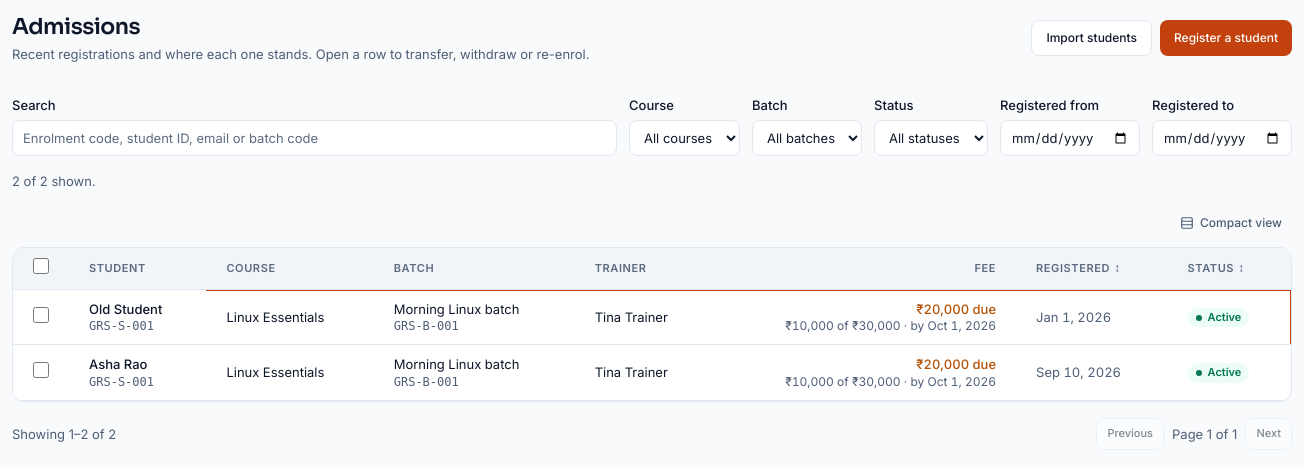
AdmissionsPage › narrows to the current page by registration date without a new server request
The width and height of the screenshot is (1304, 467).
Expected: the link "Old Student" is shown, [89,301,162,317]
Type "2026-09-01" into the date field labelled "Registered from" at [1070, 138], box [1000,120,1140,156]
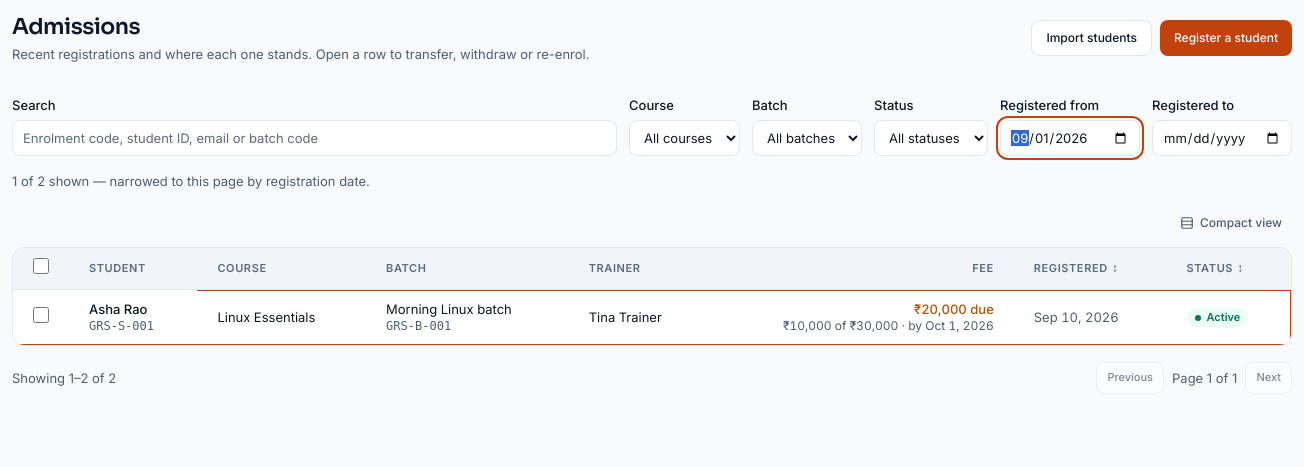
Expected: the link "Asha Rao" is shown, [89,301,148,317]
Expected: the link "Old Student" is gone
